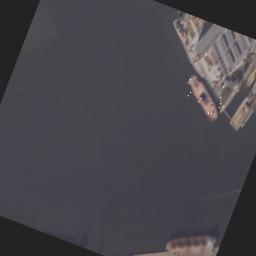boat: (178, 74, 228, 122), (165, 220, 217, 256)
